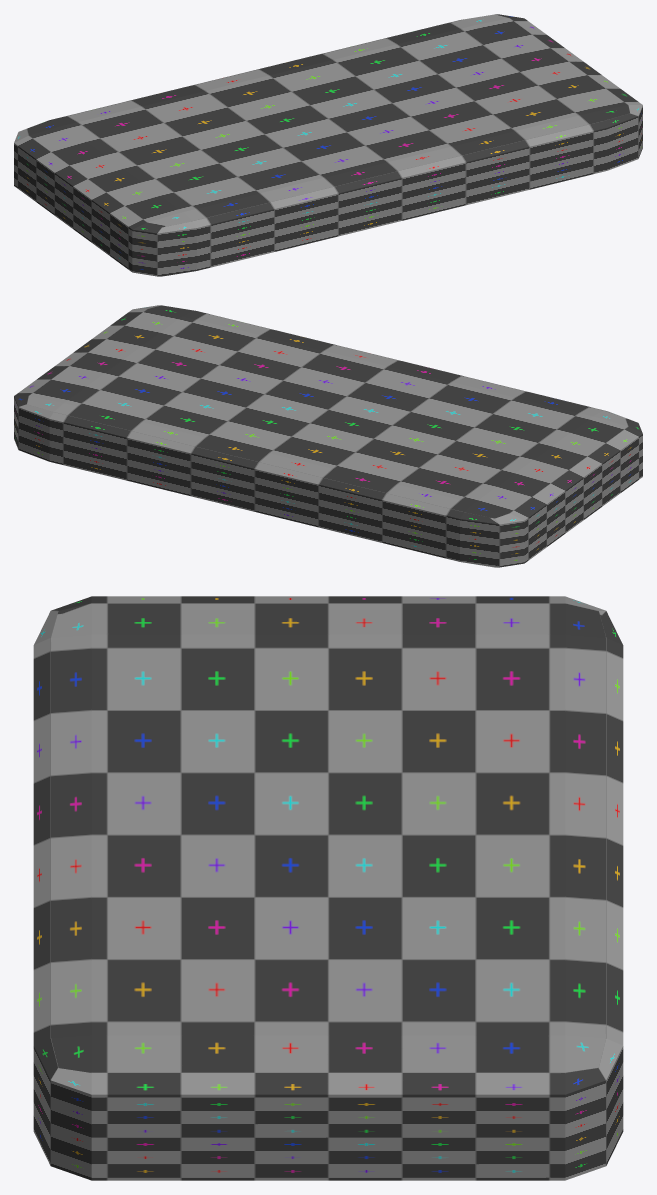
The model's file is mattress.glb.
3 views of the same model, one above another, from view 1: azimuth 30°, elevation 25°; view 2: azimuth 150°, elevation 25°; view 3: azimuth 270°, elevation 25° (orthographic). The views are drawn at different scales.
Visible parts, largest first — view 1: Cube.002; view 2: Cube.002; view 3: Cube.002.
Boxes of the visible parts, x1,y1,x2,y2 form: Cube.002: (14,14,642,276); Cube.002: (14,305,642,567); Cube.002: (33,596,623,1180).
Bounding box in the file's own units: 1.91 × 0.1914 × 0.9565.
Materials: 1 (1 with a texture image).
